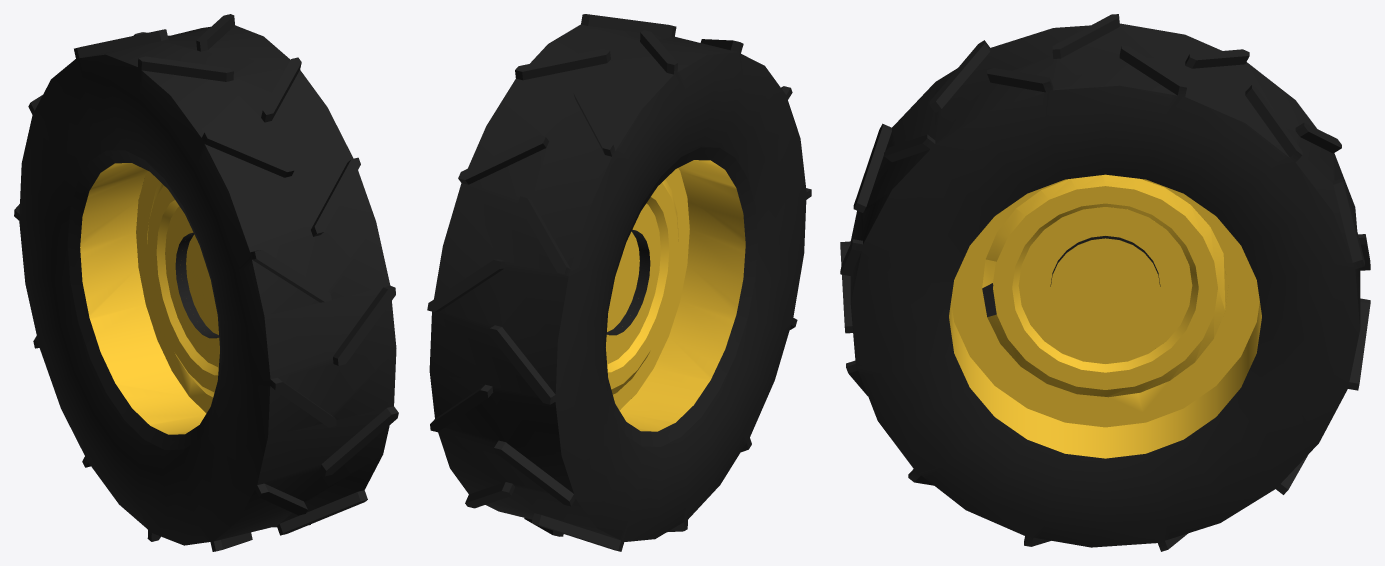
The model's file is Gator Tire.FBX.
3 views of the same model, side by side, from view 1: azimuth 30°, elevation 25°; view 2: azimuth 150°, elevation 25°; view 3: azimuth 270°, elevation 25° (orthographic).
Parts seen in each view (by area): view 1: Group_001; view 2: Group_001; view 3: Group_001.
Boxes of the visible parts, box(x1,y1,x2,y2) form: Group_001: box(14, 14, 398, 551); Group_001: box(427, 14, 811, 551); Group_001: box(840, 14, 1370, 551).
Bounding box in the file's own units: 9.08 × 30.16 × 30.16.
